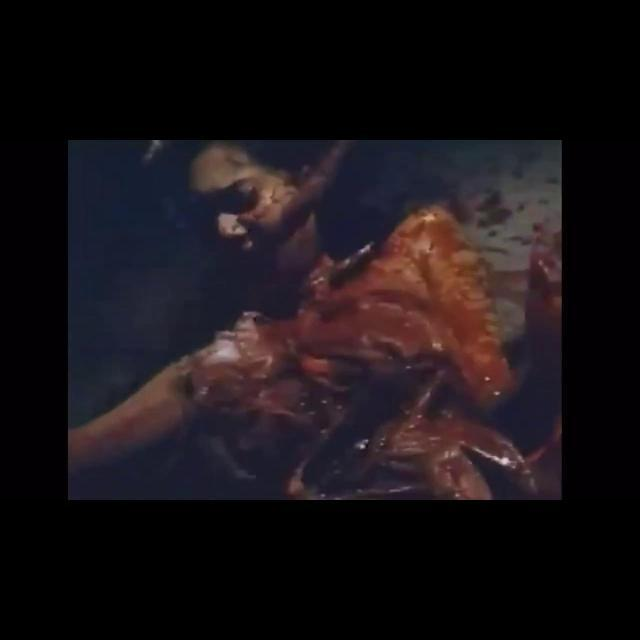blood: (108, 208, 550, 500), (240, 187, 286, 220), (530, 222, 554, 269), (488, 208, 512, 226), (478, 194, 498, 211), (554, 231, 562, 250), (478, 217, 488, 228), (509, 236, 523, 242)
